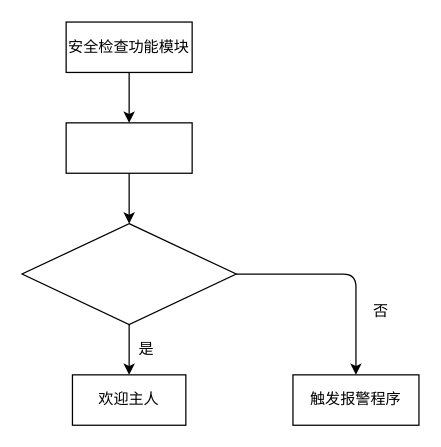
The diagram is 441 pixels wide and 447 high, and some of its shapes have lost their labels. The shapes that lost their labels are listed below. From the top down, each one's centre as x and y in pixels, then its label:
At [128,147]: "门口出现人".
At [128,273]: "判断是否为主人".
